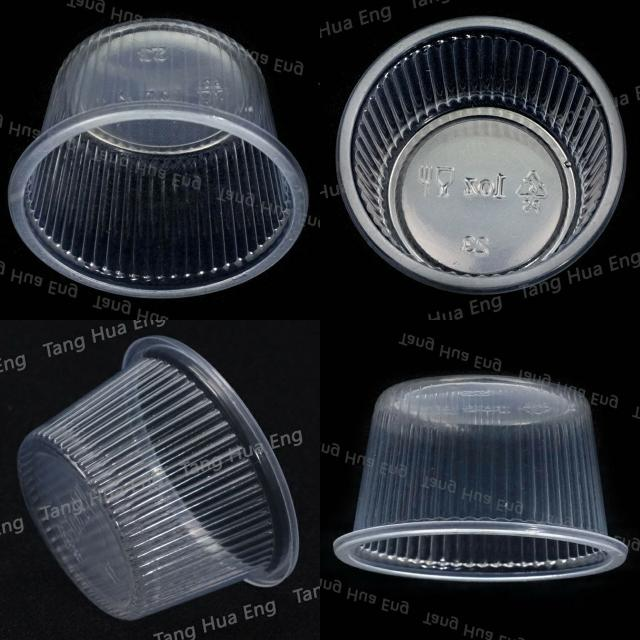Single-Use-Plastic: (9, 19, 308, 298), (18, 336, 299, 619), (338, 18, 625, 292), (334, 376, 628, 581)
